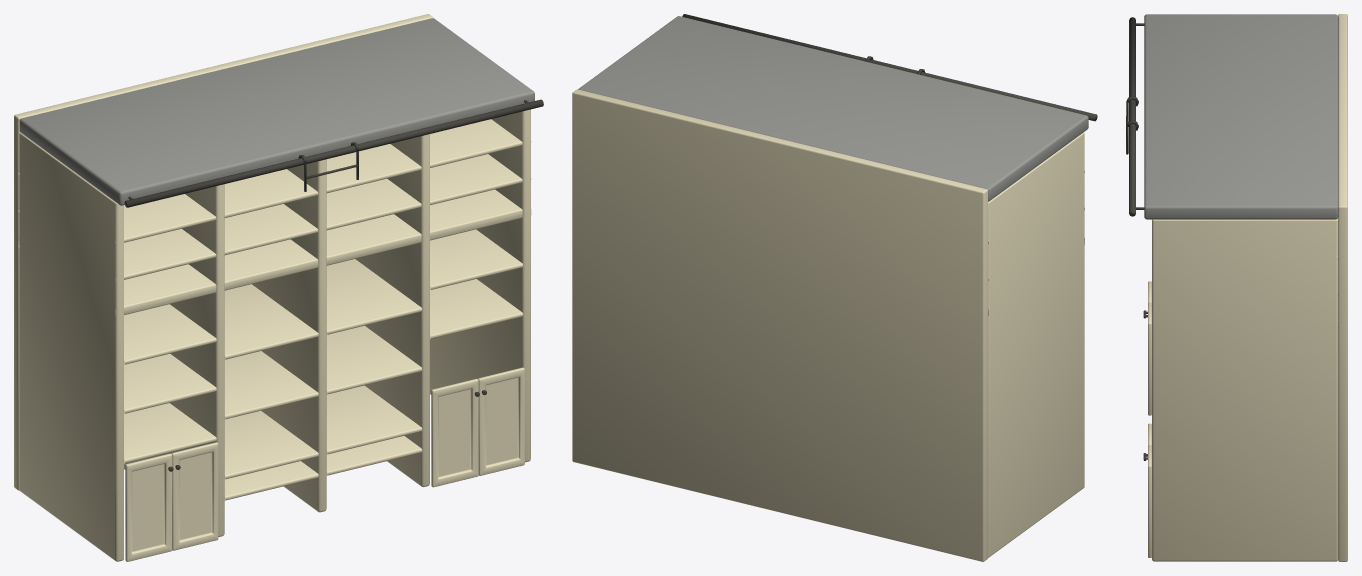
The model's file is Estante.fbx.
3 views of the same model, side by side, from view 1: azimuth 30°, elevation 25°; view 2: azimuth 150°, elevation 25°; view 3: azimuth 270°, elevation 25° (orthographic). The views are drawn at different scales.
Visible parts, largest first — view 1: Estante; view 2: Estante; view 3: Estante.
Part boxes in pixels (box(x1,y1,x2,y2)): Estante: box(14, 14, 543, 561); Estante: box(572, 14, 1097, 561); Estante: box(1126, 14, 1347, 561).
Size of the model in its own units: 613 by 526 by 297.
